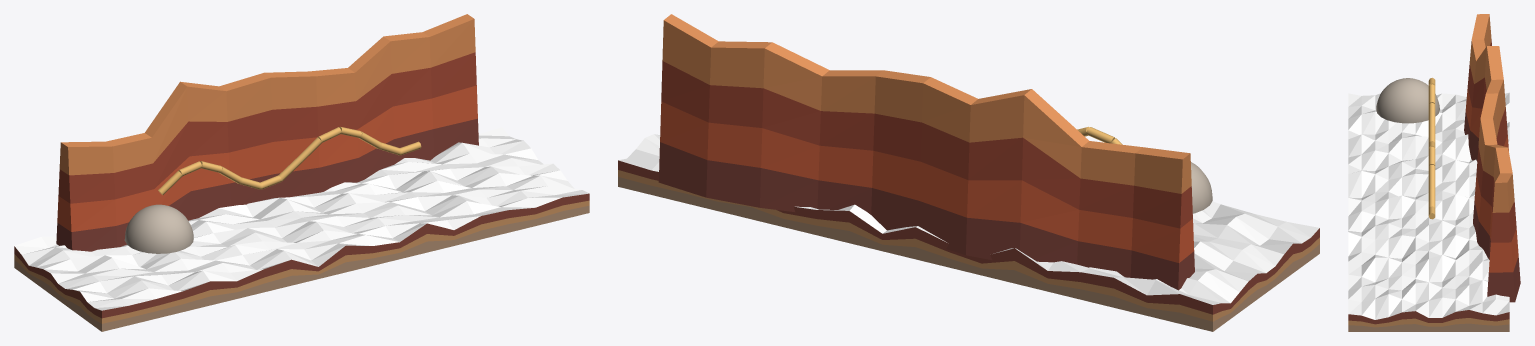
The model's file is insight-ondas.obj.
3 views of the same model, side by side, from view 1: azimuth 30°, elevation 25°; view 2: azimuth 150°, elevation 25°; view 3: azimuth 270°, elevation 25° (orthographic). The views are drawn at different scales.
Parts seen in each view (by area): view 1: insight-ondas; view 2: insight-ondas; view 3: insight-ondas.
Part boxes in pixels (x1,y1,x2,y2): insight-ondas: (14,14,589,331); insight-ondas: (618,14,1319,331); insight-ondas: (1348,14,1520,331).
Bounding box in the file's own units: 1.64 × 0.4854 × 0.5452.
